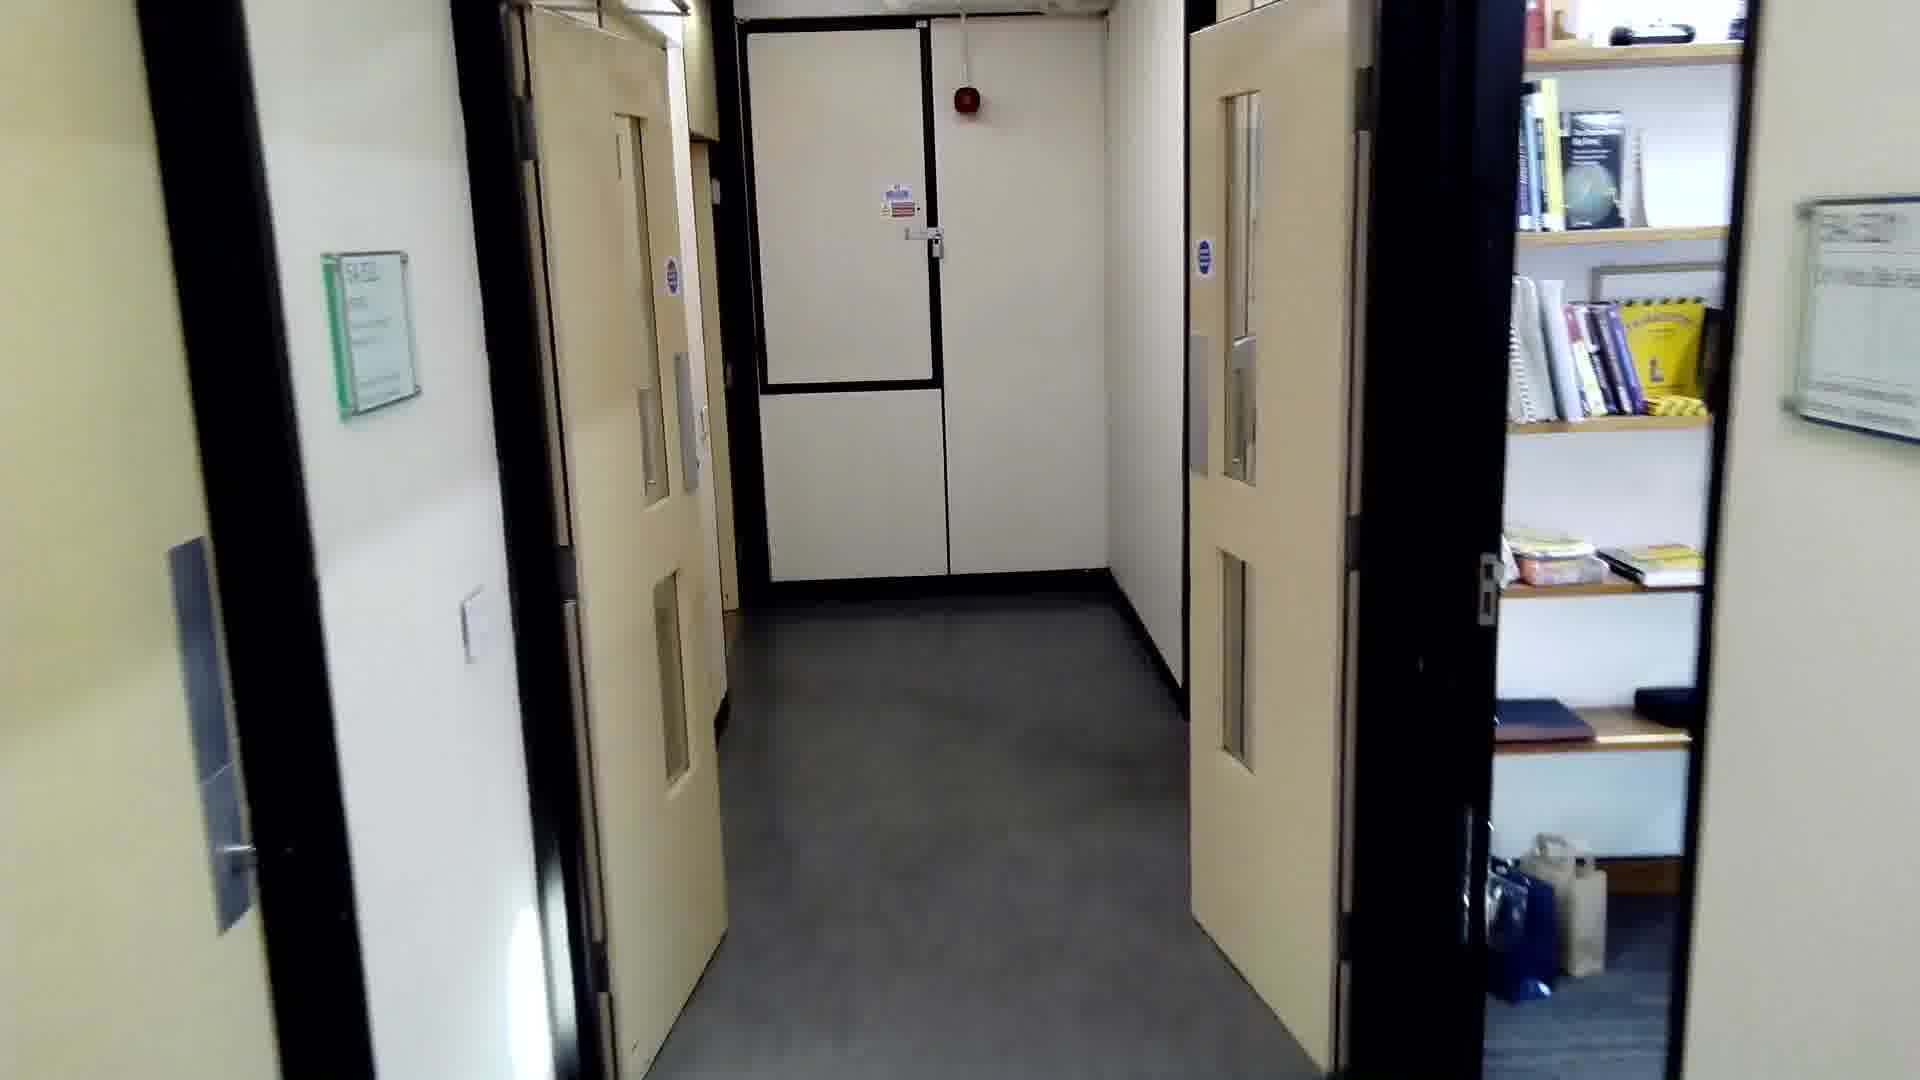Door: (501, 3, 731, 1080), (1175, 4, 1352, 1080)
